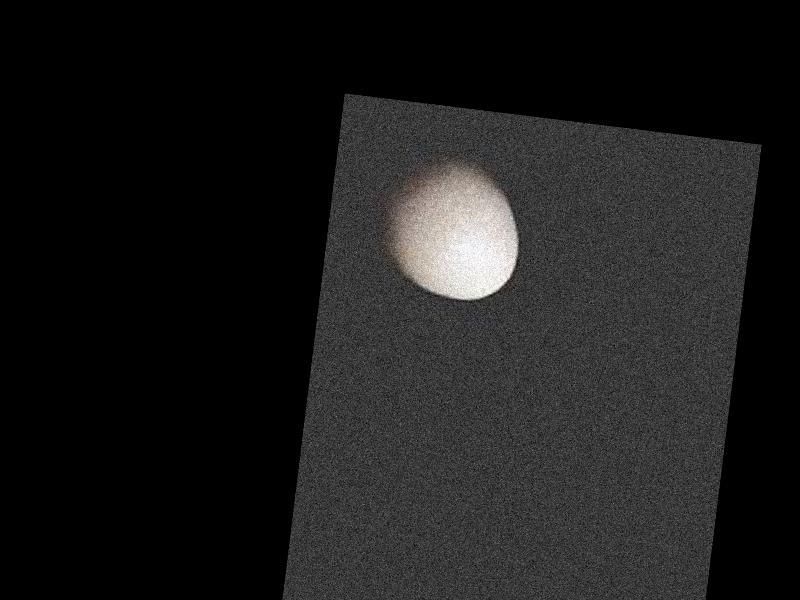Eggs: (374, 146, 529, 305)
